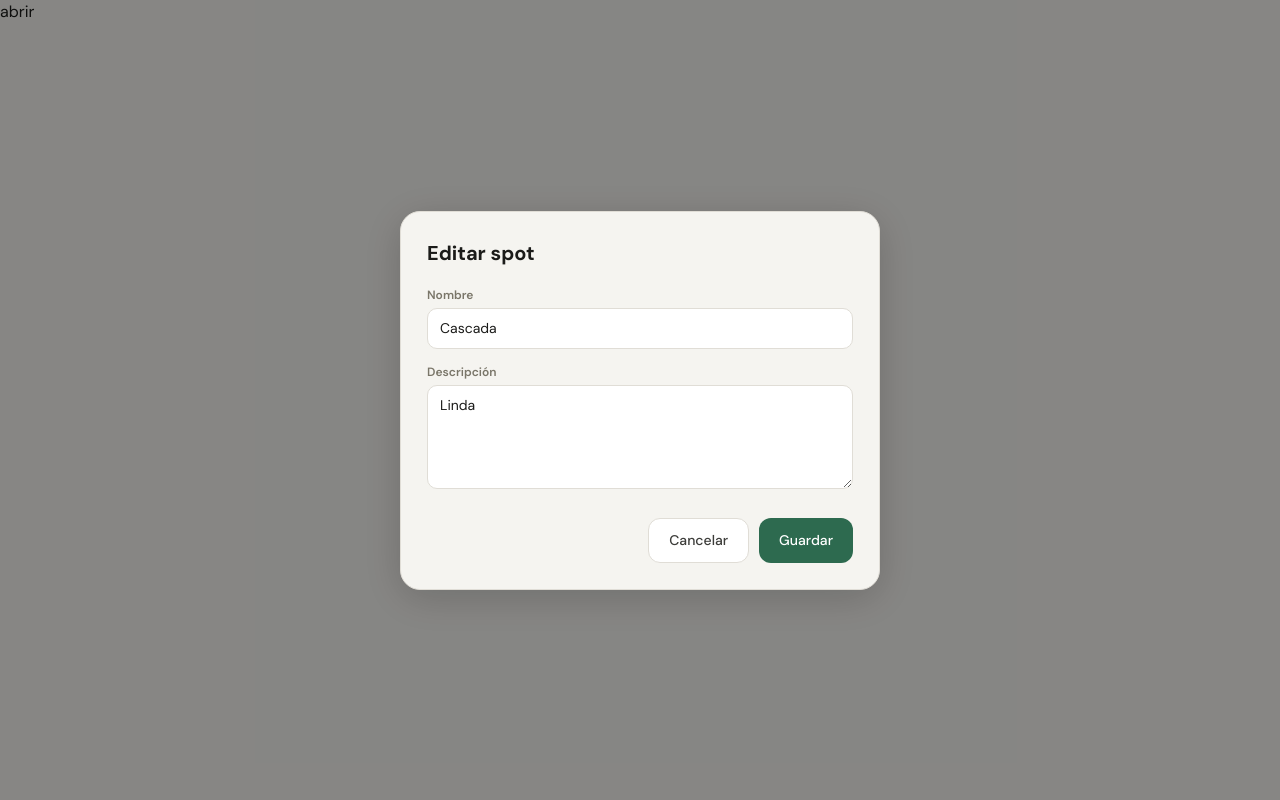
EditSpotModal › un error de validación o de red muestra un mensaje genérico
The image size is (1280, 800).
What coordinates should you click on to do the following:
click the button "Guardar"
I would click on:
 (806, 540)
Its box is [759,518,853,562].
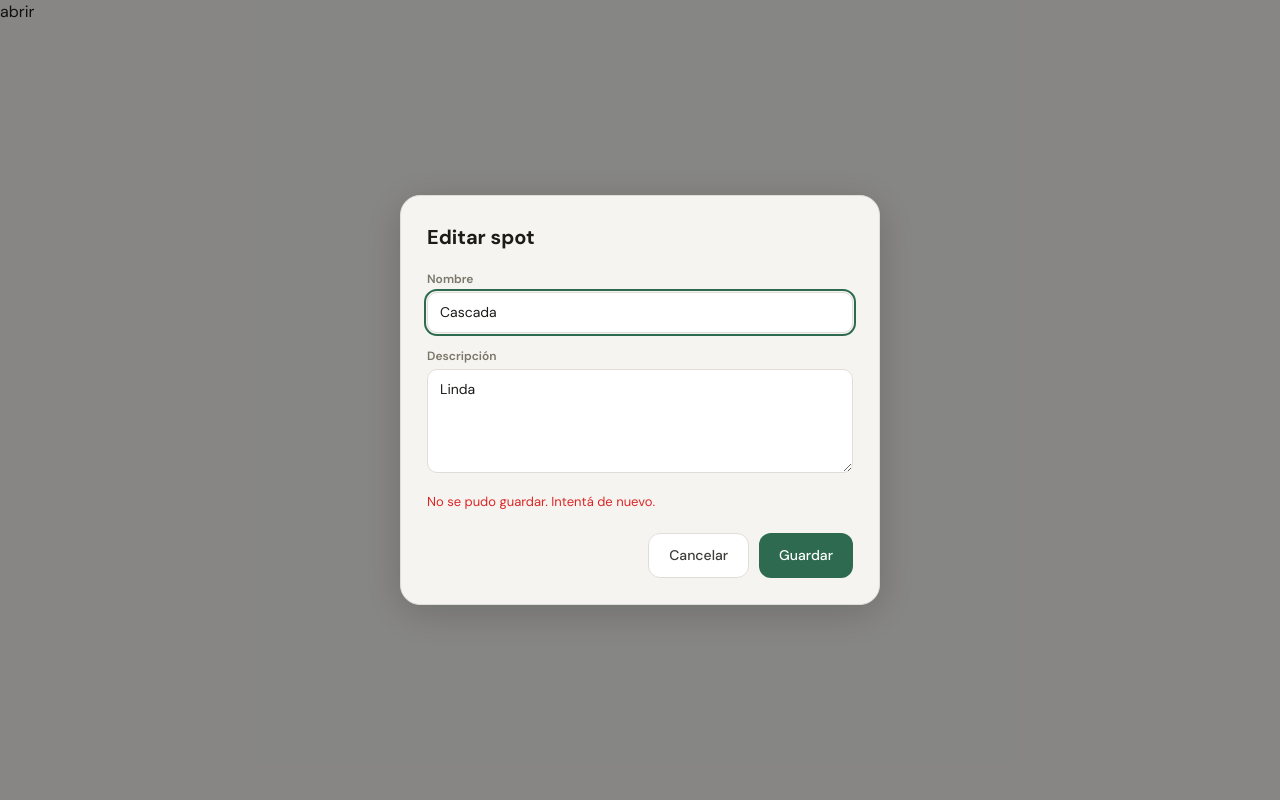
Check: the message reads "No se pudo guardar. Intentá de nuevo.", box [427,493,655,510]
